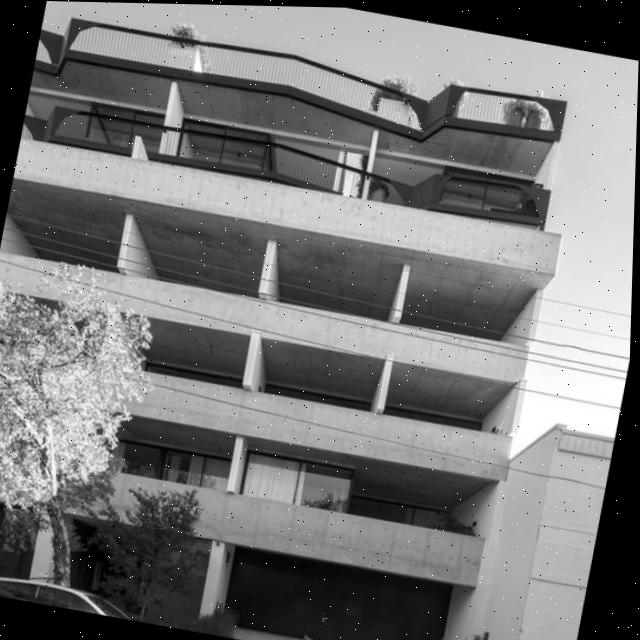building: (0, 8, 580, 640)
